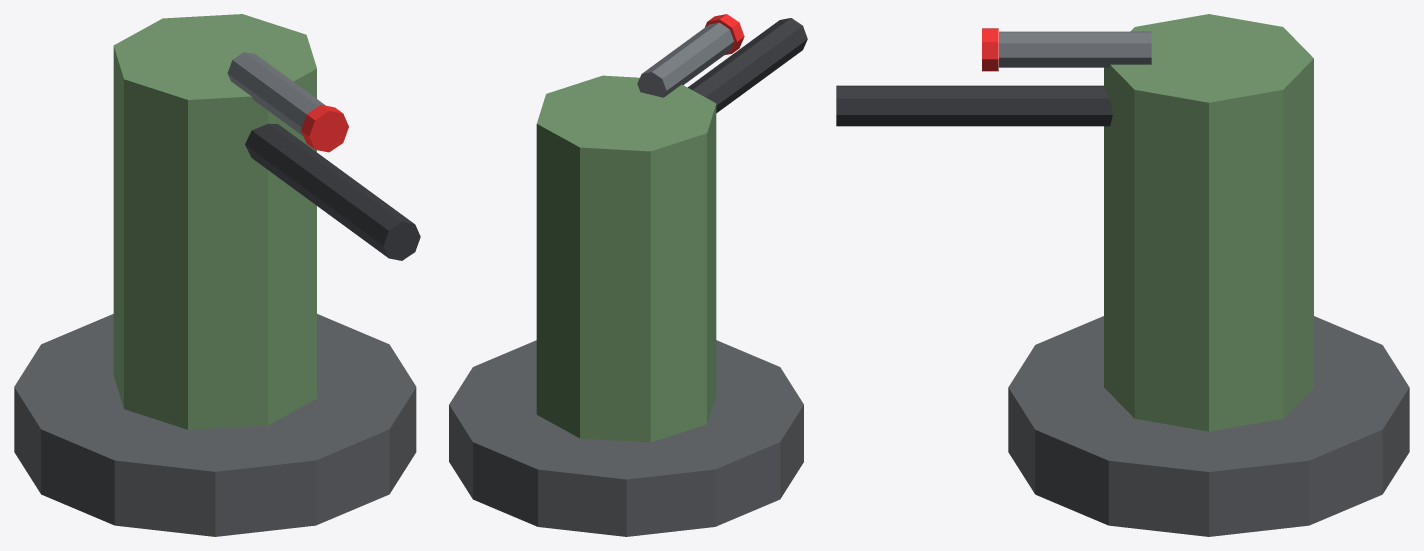
The model's file is TD_SniperTower_T0.fbx.
3 views of the same model, side by side, from view 1: azimuth 30°, elevation 25°; view 2: azimuth 150°, elevation 25°; view 3: azimuth 270°, elevation 25° (orthographic). The views are drawn at different scales.
Visible parts, largest first — view 1: TD_SniperTower_T0_Body, TD_SniperTower_T0_Base, TD_SniperTower_T0_LongBarrel, TD_SniperTower_T0_Scope, TD_SniperTower_T0_RedLens; view 2: TD_SniperTower_T0_Body, TD_SniperTower_T0_Base, TD_SniperTower_T0_LongBarrel, TD_SniperTower_T0_Scope, TD_SniperTower_T0_RedLens; view 3: TD_SniperTower_T0_Body, TD_SniperTower_T0_Base, TD_SniperTower_T0_LongBarrel, TD_SniperTower_T0_Scope, TD_SniperTower_T0_RedLens.
Part boxes in pixels (<box>): TD_SniperTower_T0_Body: <box>113,14,316,429</box>; TD_SniperTower_T0_Base: <box>14,314,416,536</box>; TD_SniperTower_T0_LongBarrel: <box>245,123,420,260</box>; TD_SniperTower_T0_Scope: <box>227,52,325,136</box>; TD_SniperTower_T0_RedLens: <box>301,105,348,152</box>; TD_SniperTower_T0_Body: <box>536,75,716,442</box>; TD_SniperTower_T0_Base: <box>449,340,803,536</box>; TD_SniperTower_T0_LongBarrel: <box>688,18,807,113</box>; TD_SniperTower_T0_Scope: <box>637,22,733,97</box>; TD_SniperTower_T0_RedLens: <box>705,14,744,54</box>; TD_SniperTower_T0_Body: <box>1104,14,1313,431</box>; TD_SniperTower_T0_Base: <box>1008,316,1409,536</box>; TD_SniperTower_T0_LongBarrel: <box>836,85,1112,126</box>; TD_SniperTower_T0_Scope: <box>999,31,1151,67</box>; TD_SniperTower_T0_RedLens: <box>982,28,998,71</box>.
Size of the model in its own units: 0.84 by 0.978 by 1.2.
